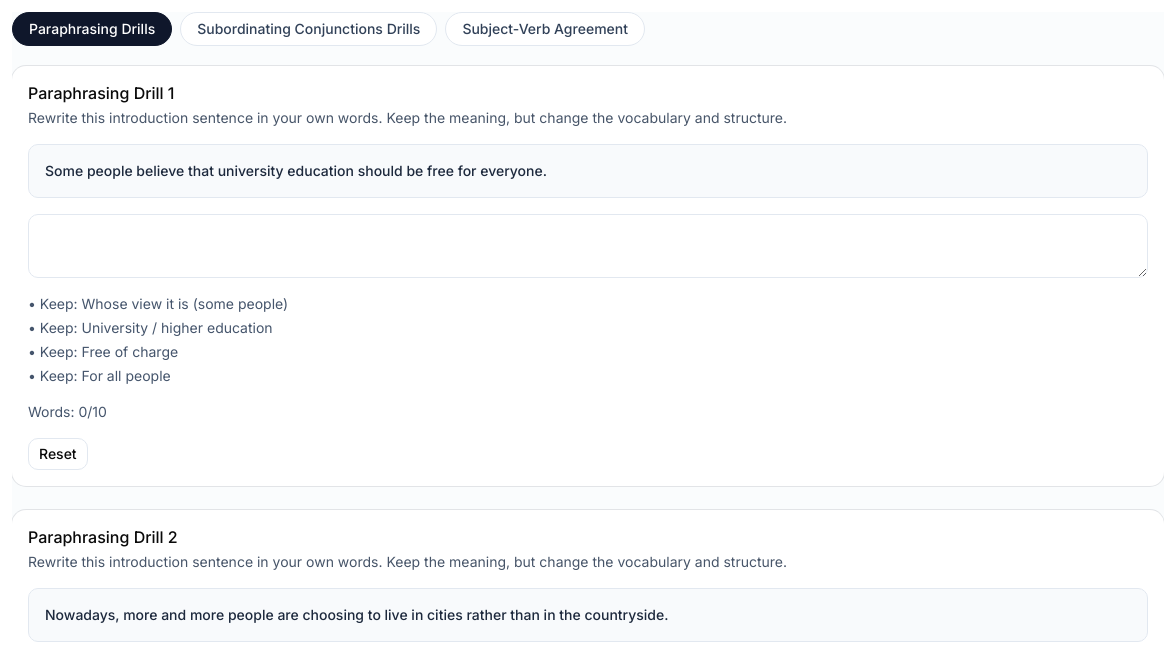
Test case: PracticeBank › gives live paraphrase feedback
Type "Some people believe that university education should be free for everyone." into the text box named "Paraphrase 1 answer" at (588, 246), box [28,214,1148,278]
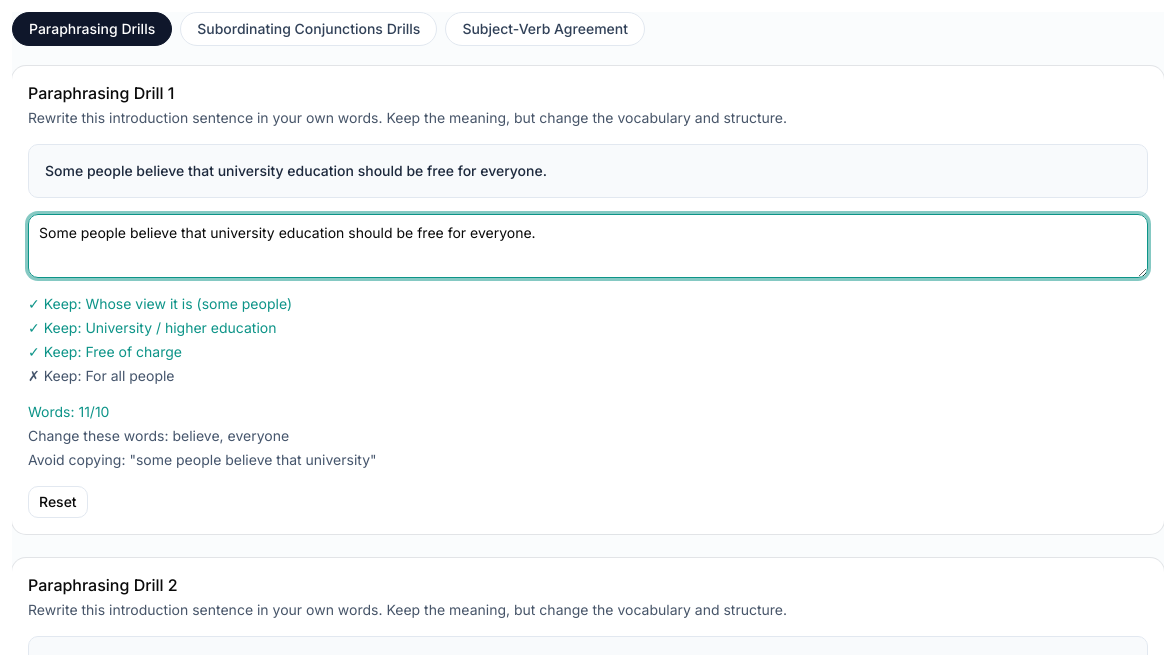
Check: the text "Great paraphrase" is not shown
Check: the text "Change these words: believe, everyone" is shown, box [28,427,289,444]
Replace the text in the text box named "Paraphrase 1 answer" with "It is argued by some that higher education ought to be provided without charge to all citizens." at (588, 246), box [28,214,1148,278]
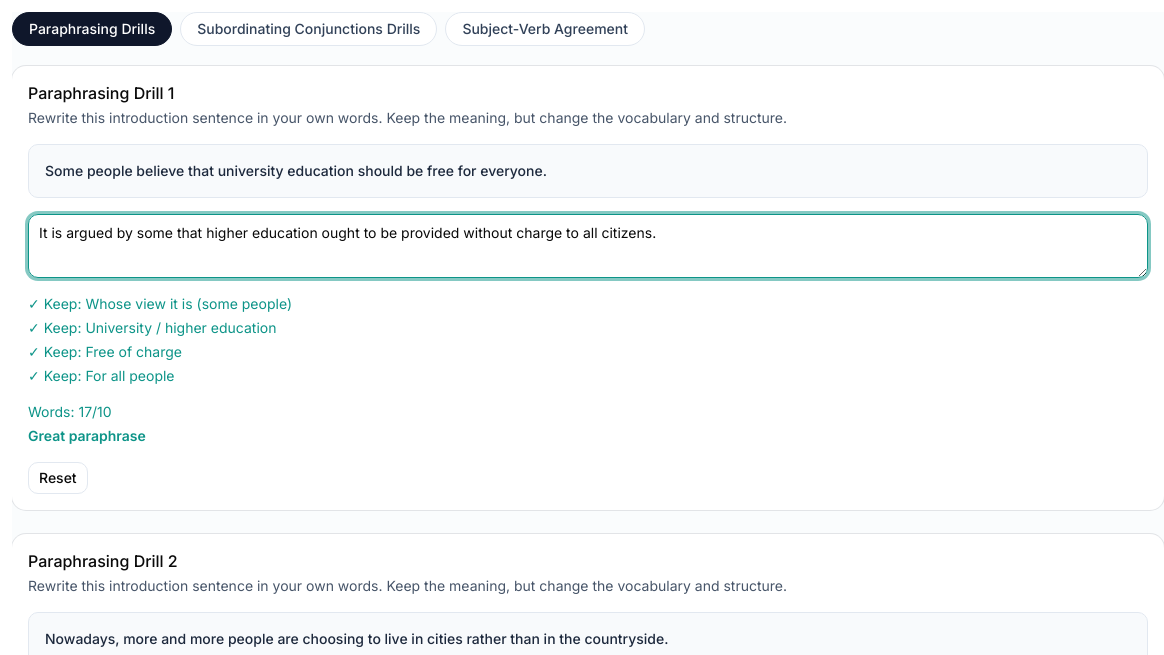
Check: the text "Great paraphrase" is shown, box [28,427,146,444]
